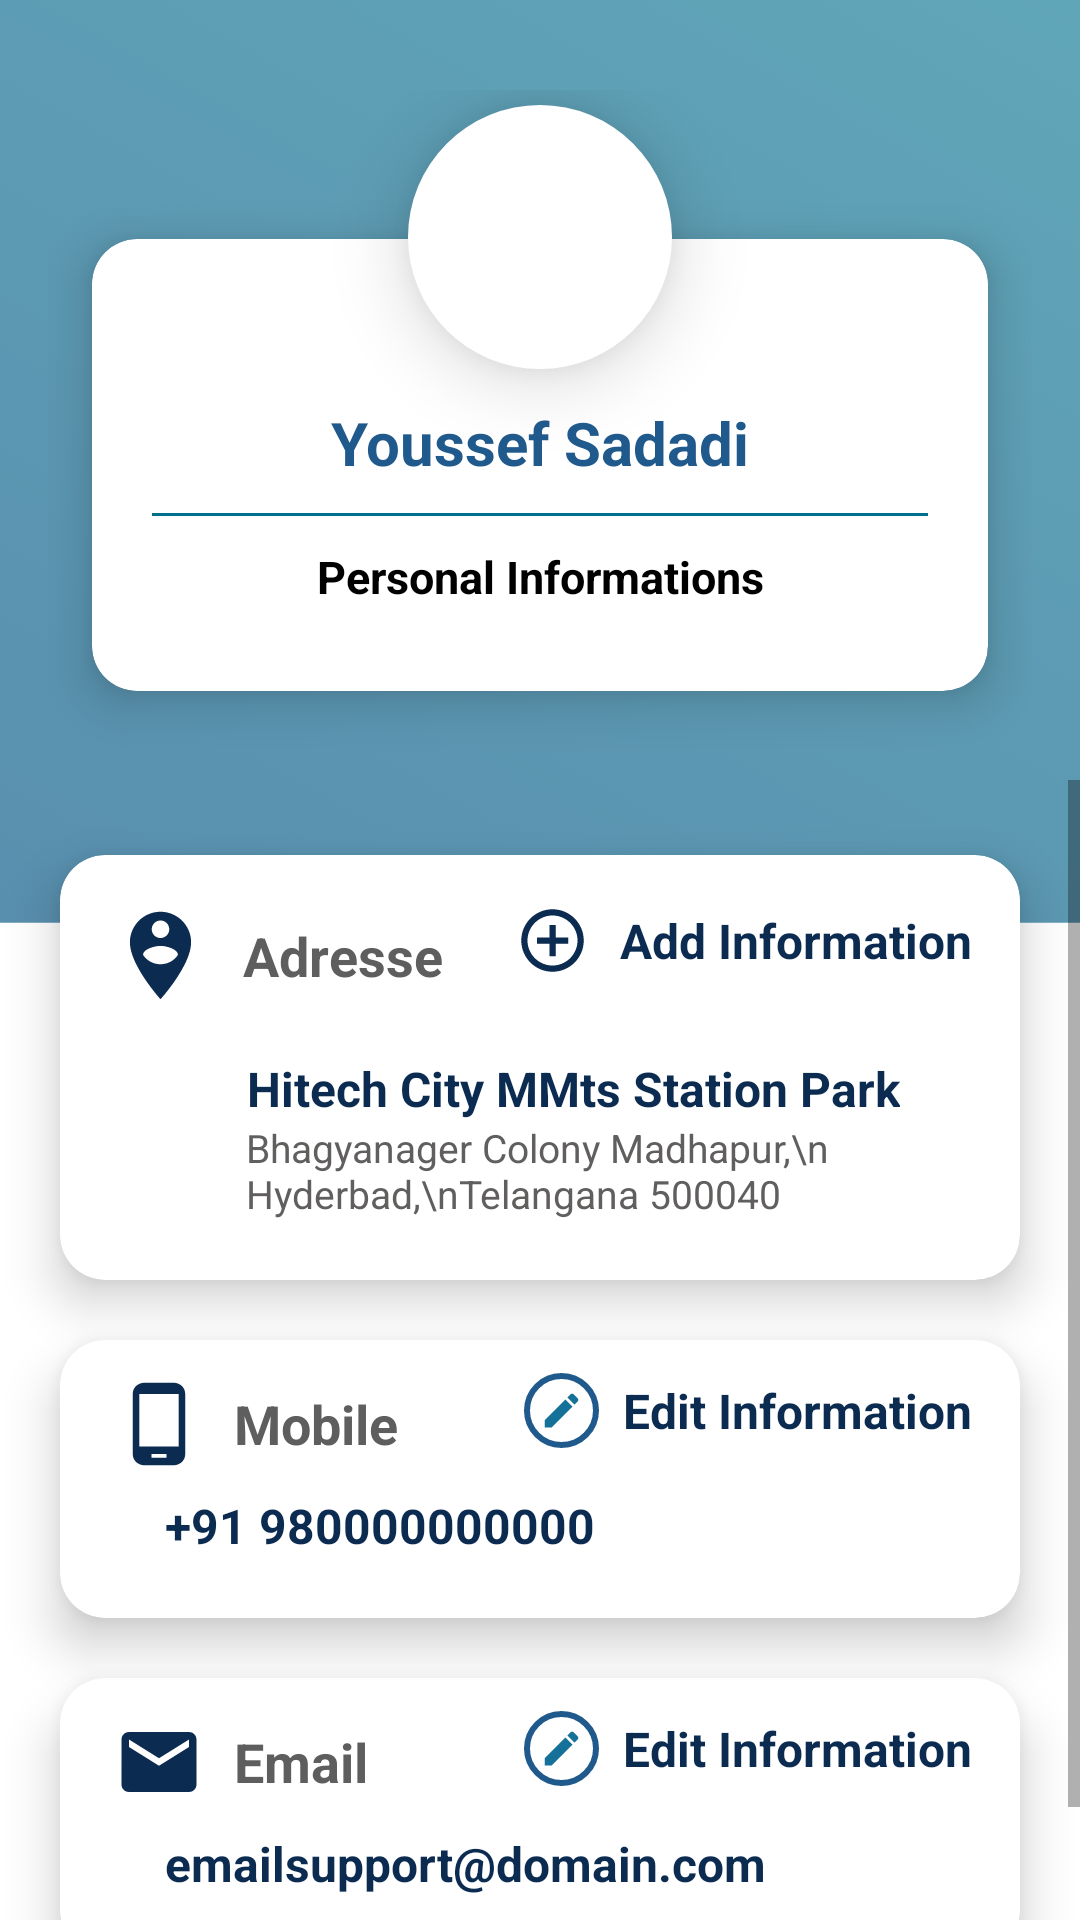

Screen size 1080px x 1920px. Icon name, then its box in pixels as (x1, y1, x2, y2):
add circle: (521, 909, 584, 972)
person pin circle: (130, 911, 191, 999)
phone android: (132, 1382, 186, 1466)
